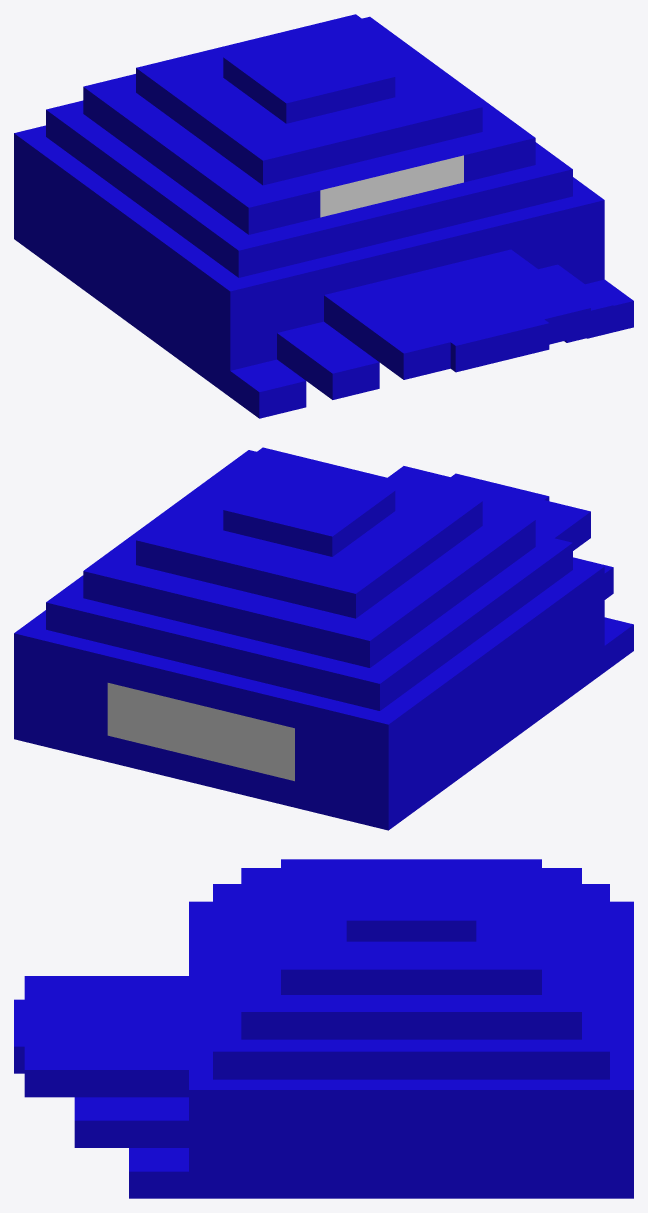
Rendered from h_cap.fbx.
3 renders of one model, top to bottom at view 1: azimuth 30°, elevation 25°; view 2: azimuth 150°, elevation 25°; view 3: azimuth 270°, elevation 25°, orthographic. The views are drawn at different scales.
Parts seen in each view (by area): view 1: Cap; view 2: Cap; view 3: Cap.
Part boxes in pixels (x1,y1,x2,y2): Cap: [14, 14, 633, 418]; Cap: [14, 447, 633, 830]; Cap: [14, 859, 633, 1198].
Size of the model in its own units: 50.15 by 26.29 by 69.88.
